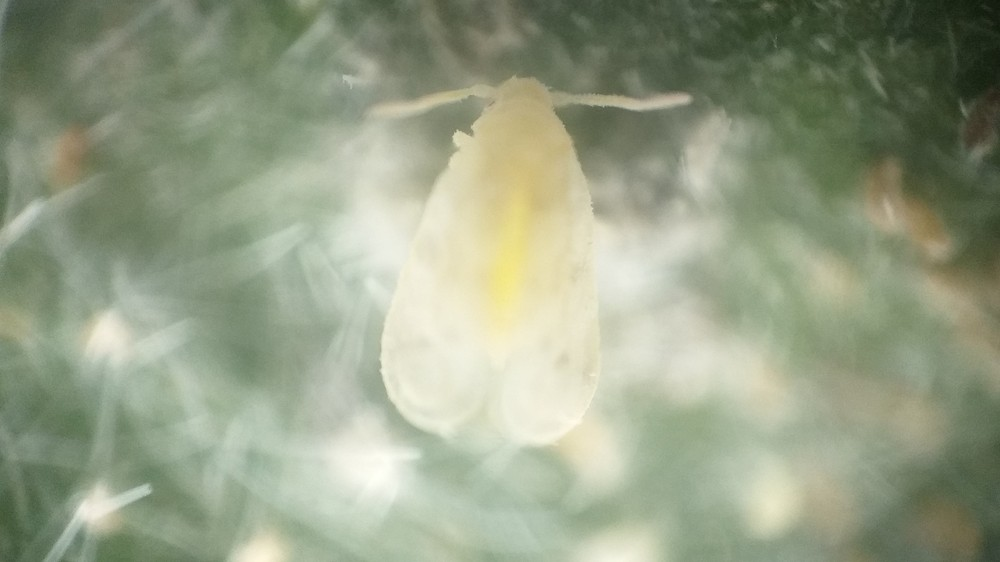Mosca Blanca: (331, 58, 713, 474)
